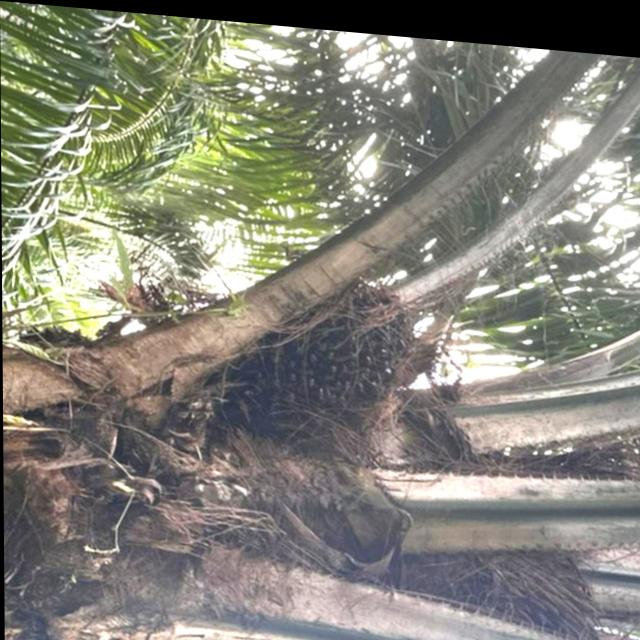unripe: (250, 262, 421, 431)
